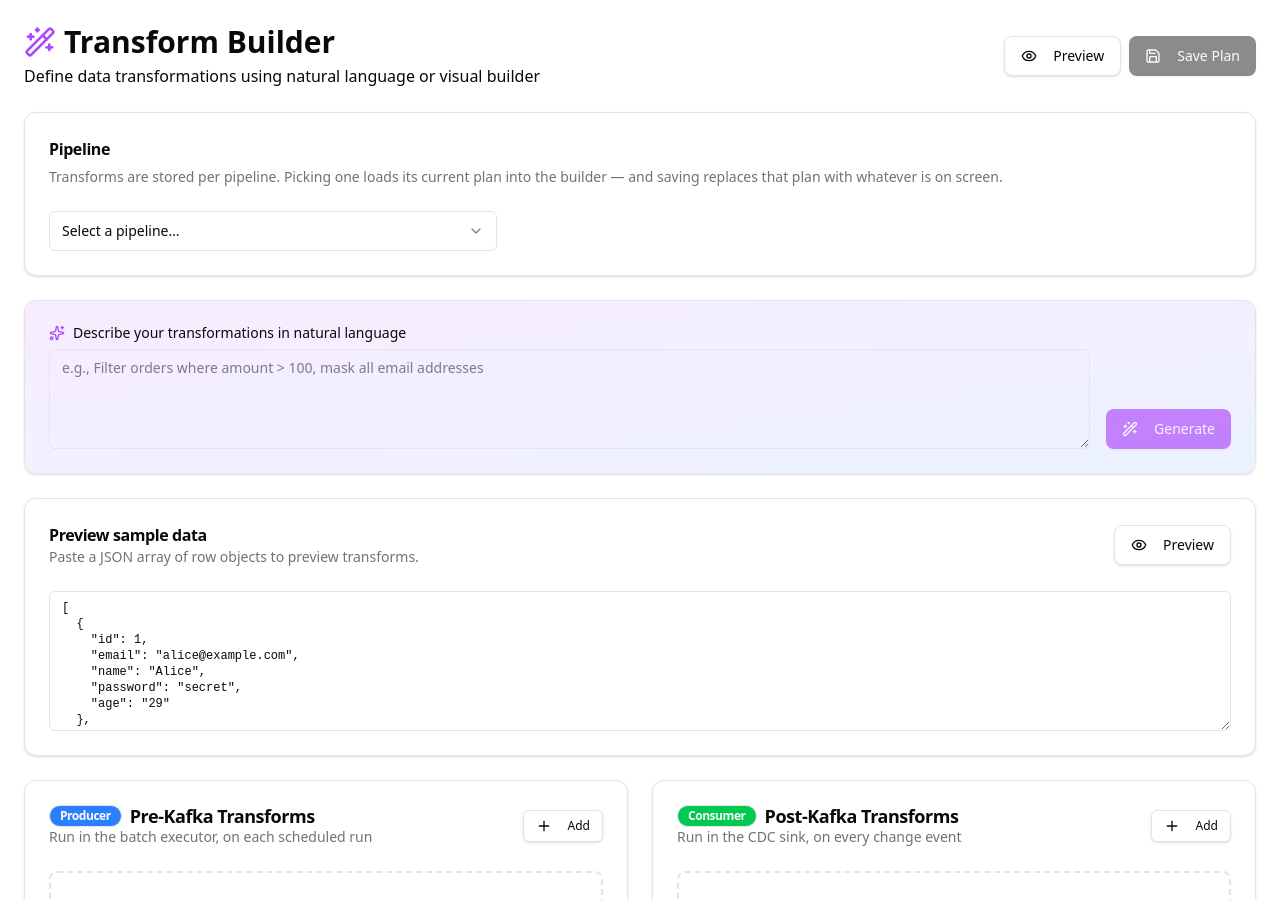
Transform Builder — unsaved work › marks the plan unsaved as soon as it differs from what is stored
The image size is (1280, 900).
Click the dropdown: (121, 230) [49,211,497,251]
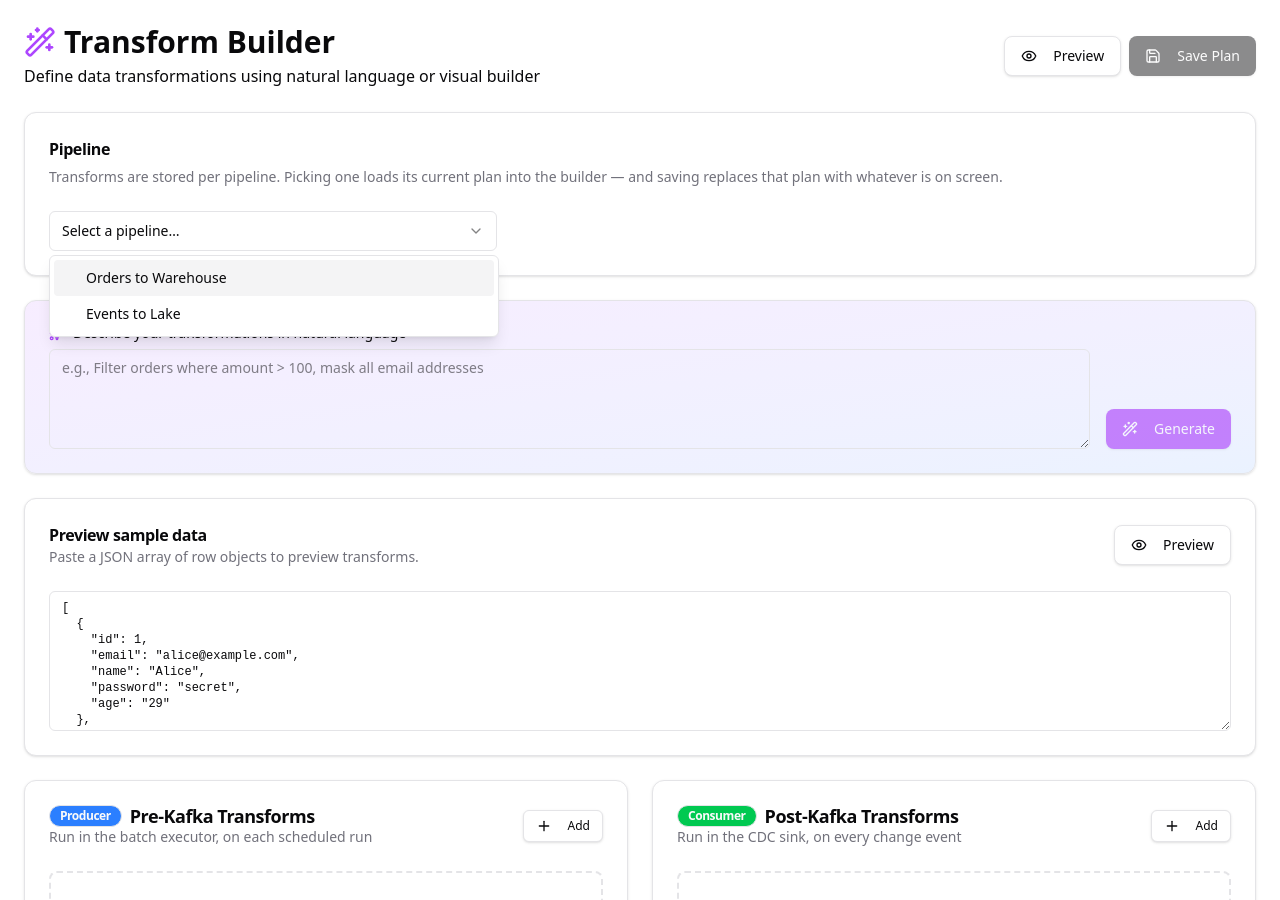
Click the option "Orders to Warehouse": (156, 278) [54,260,494,296]
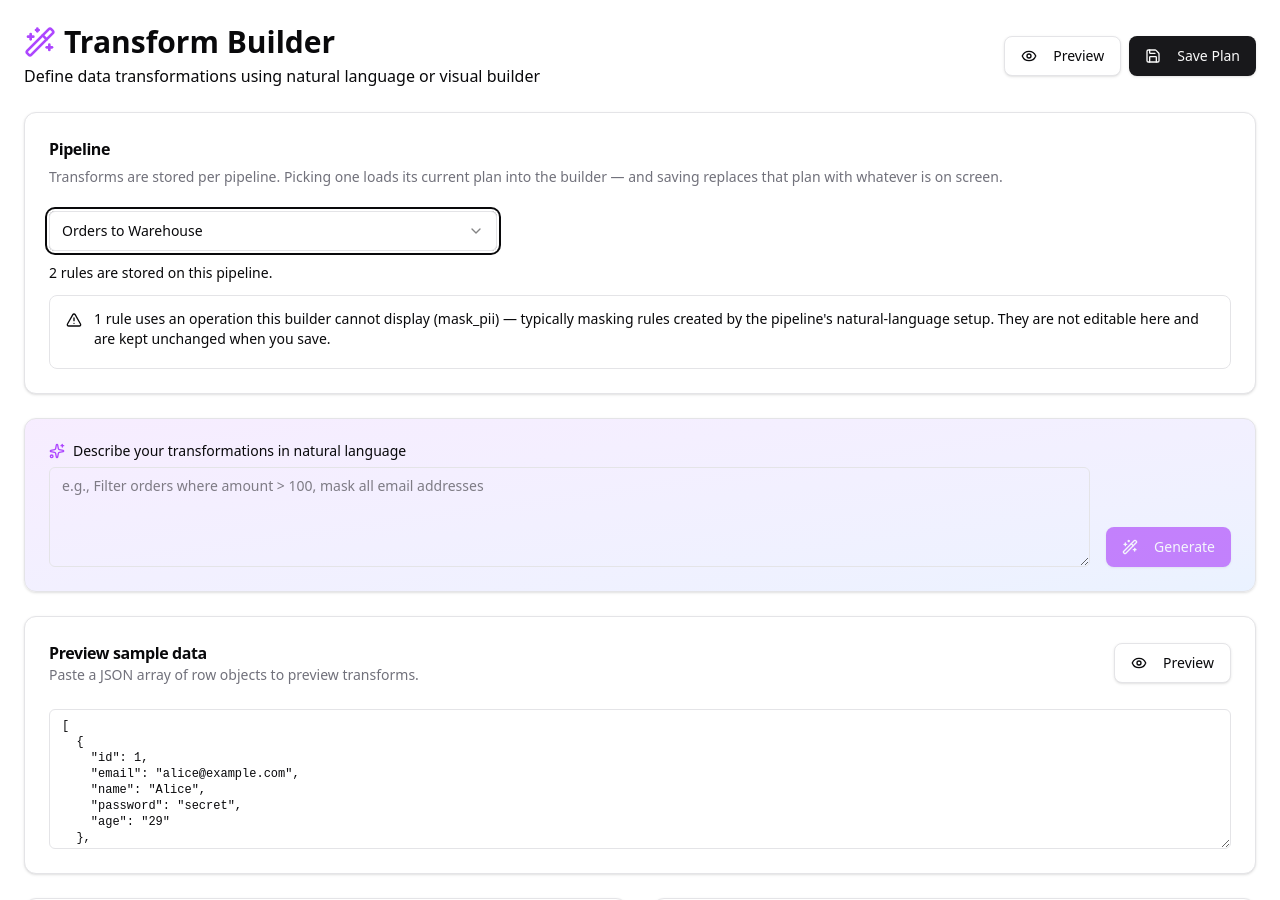
In the text box with placeholder "mask all email addresses": (570, 517) [49,467,1090,567], type "rename cust to customer"
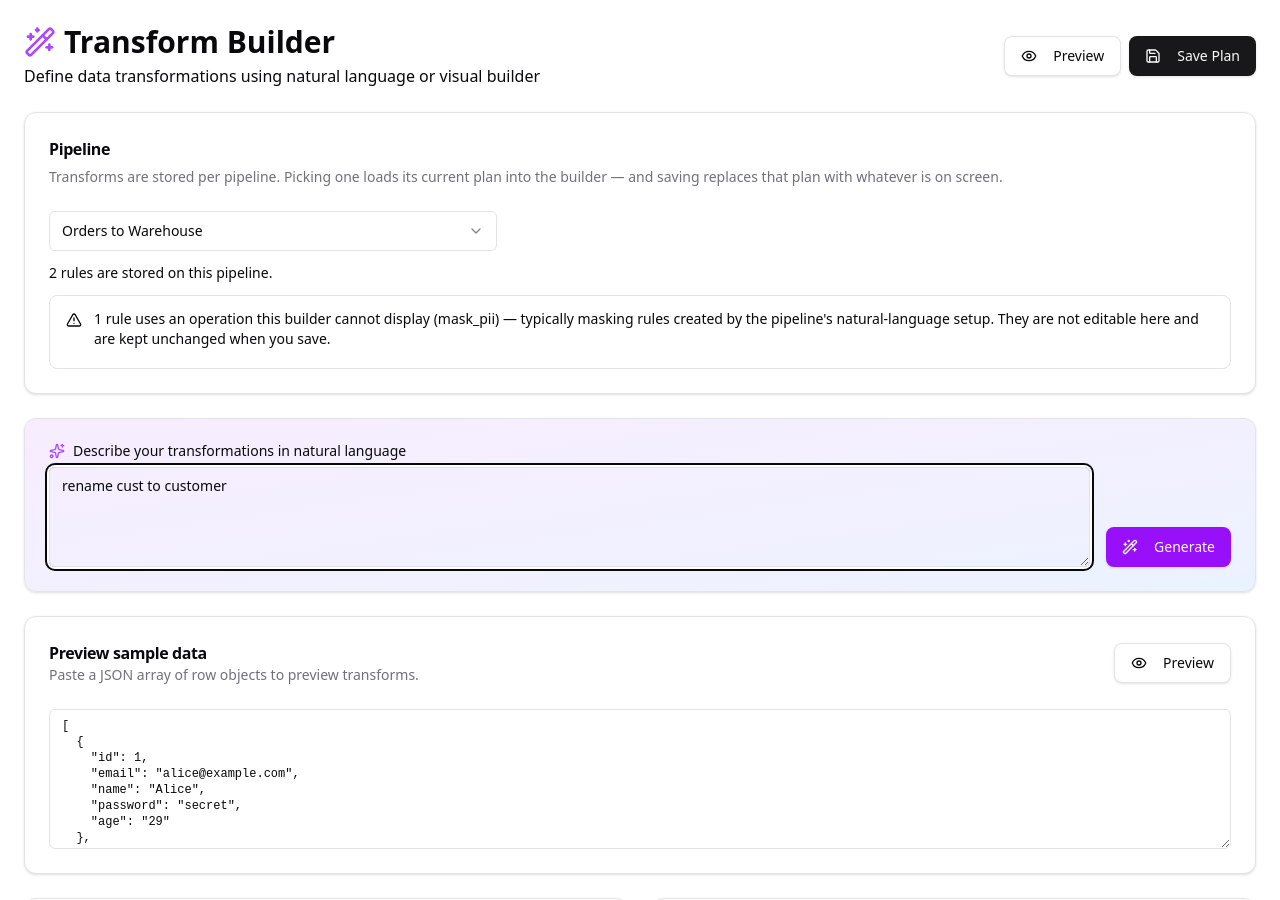
Click the button "Generate": (1168, 547) [1106,527,1231,567]
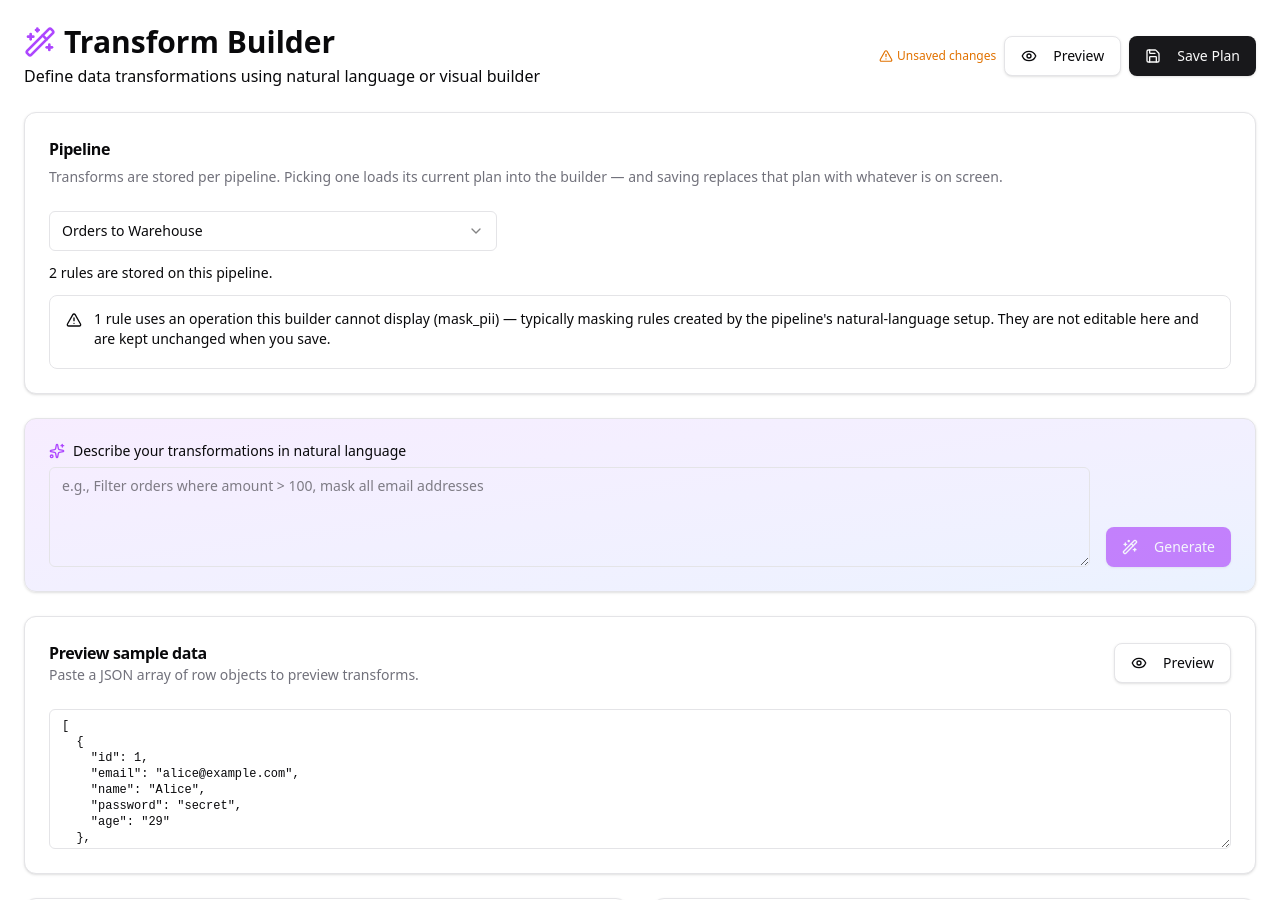
Check: the text "Unsaved changes" is shown, box [879,48,996,64]
